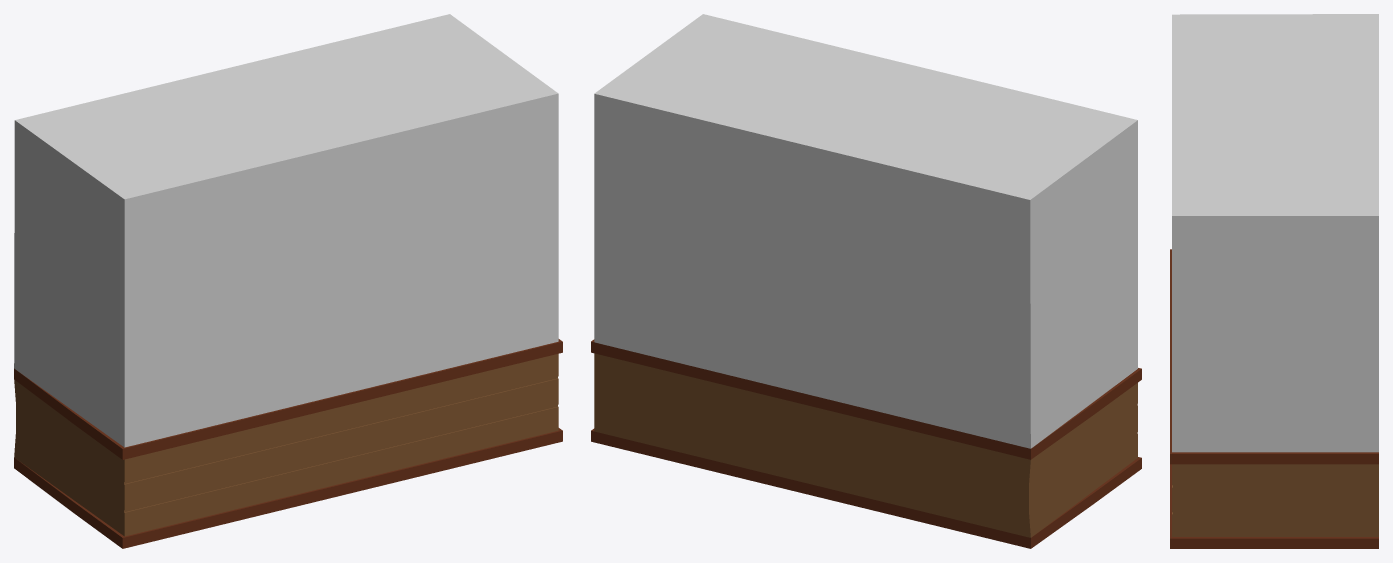
File: WallSquare.fbx
3 views of the same model, side by side, from view 1: azimuth 30°, elevation 25°; view 2: azimuth 150°, elevation 25°; view 3: azimuth 270°, elevation 25° (orthographic). The views are drawn at different scales.
Visible parts, largest first — view 1: Cube.004; view 2: Cube.004; view 3: Cube.004.
Part boxes in pixels (x1=…): Cube.004: x1=14, y1=14, x2=562, y2=548; Cube.004: x1=591, y1=14, x2=1141, y2=548; Cube.004: x1=1170, y1=14, x2=1378, y2=548.
Bounding box in the file's own units: 4.18 × 3.16 × 1.81.
